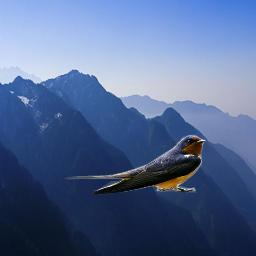Swallow: (64, 134, 206, 195)
